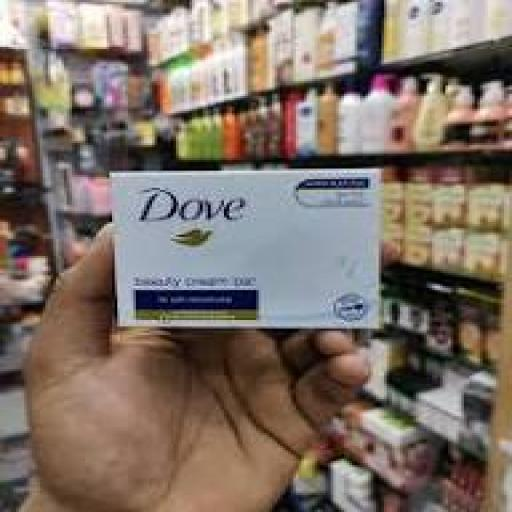Dove`1: (91, 156, 388, 331)
